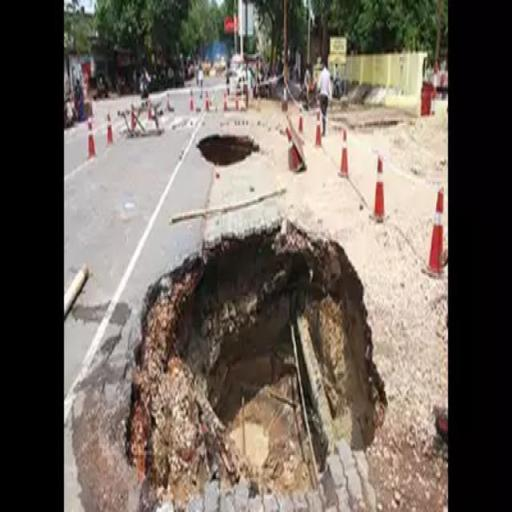Concentric_Crack: (126, 222, 386, 504), (197, 135, 259, 165)
